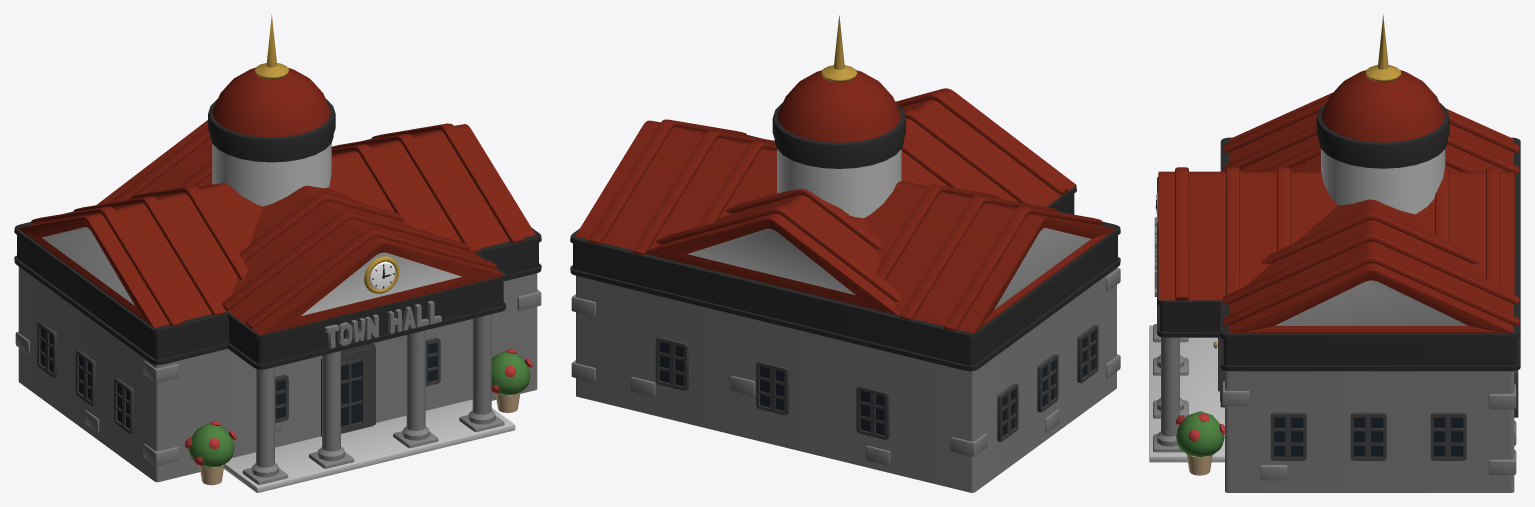
File: SM_townhall.fbx
The picture shows the model from 3 angles, left to right: view 1: azimuth 30°, elevation 25°; view 2: azimuth 150°, elevation 25°; view 3: azimuth 270°, elevation 25°; orthographic projection. The views are drawn at different scales.
Visible parts, largest first — view 1: Object32408; view 2: Object32408; view 3: Object32408.
Boxes of the visible parts, x1=… form: Object32408: x1=14, y1=14, x2=541, y2=492; Object32408: x1=570, y1=15, x2=1120, y2=492; Object32408: x1=1149, y1=15, x2=1520, y2=492.
Bounding box in the file's own units: 364 × 328 × 289.
